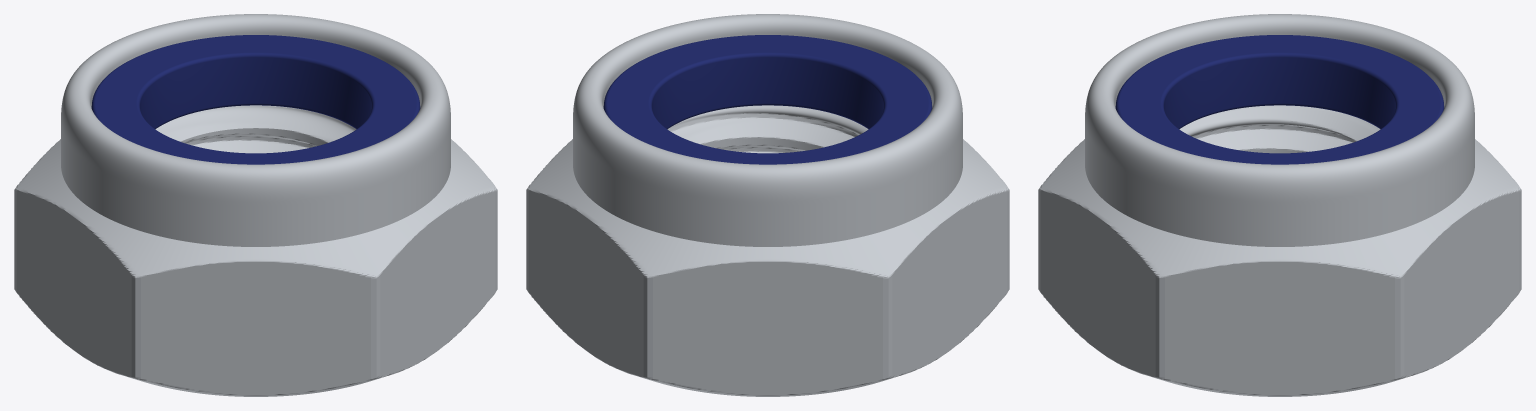
The model's file is handlebar-mount-nyloc-inspection.glb.
The picture shows the model from 3 angles, left to right: view 1: azimuth 30°, elevation 25°; view 2: azimuth 150°, elevation 25°; view 3: azimuth 270°, elevation 25°; orthographic projection.
Parts seen in each view (by area): view 1: Locknut metal body - conditionalDIN985M10 with original fema, Nonmetal locking insert - unloaded visualestimate; view 2: Locknut metal body - conditionalDIN985M10 with original fema, Nonmetal locking insert - unloaded visualestimate; view 3: Locknut metal body - conditionalDIN985M10 with original fema, Nonmetal locking insert - unloaded visualestimate.
Part boxes in pixels (box(x1,y1,x2,y2)): Locknut metal body - conditionalDIN985M10 with original fema: box(14, 14, 497, 396); Nonmetal locking insert - unloaded visualestimate: box(91, 35, 420, 164); Locknut metal body - conditionalDIN985M10 with original fema: box(526, 14, 1009, 396); Nonmetal locking insert - unloaded visualestimate: box(603, 35, 932, 164); Locknut metal body - conditionalDIN985M10 with original fema: box(1038, 14, 1521, 396); Nonmetal locking insert - unloaded visualestimate: box(1115, 35, 1444, 164).
Bounding box in the file's own units: 0.017 × 0.01 × 0.0196.
